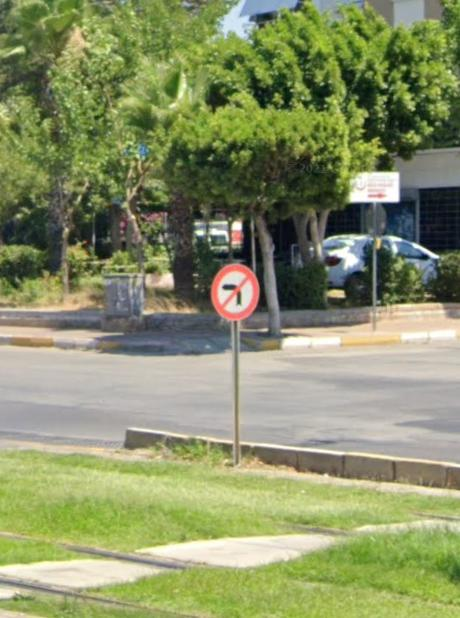leftturnsareforbidden: (215, 267, 258, 319)
